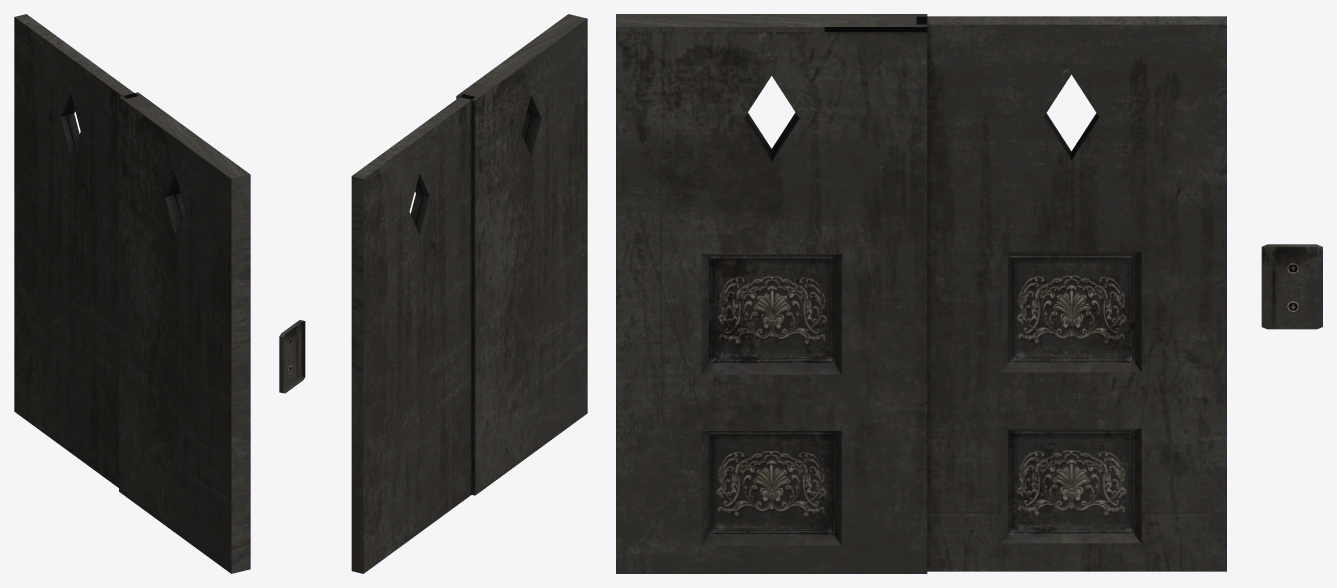
Rendered from Elevator_Door.fbx.
The picture shows the model from 3 angles, left to right: view 1: azimuth 30°, elevation 25°; view 2: azimuth 150°, elevation 25°; view 3: azimuth 270°, elevation 25°; orthographic projection. The views are drawn at different scales.
Visible parts, largest first — view 1: Cube_015; view 2: Cube_015; view 3: Cube_015.
Part boxes in pixels (x1,y1,x2,y2): Cube_015: (14,14,250,573); Cube_015: (279,14,587,573); Cube_015: (616,14,1322,573).
Bounding box in the file's own units: 1.39 × 9.87 × 11.55.
